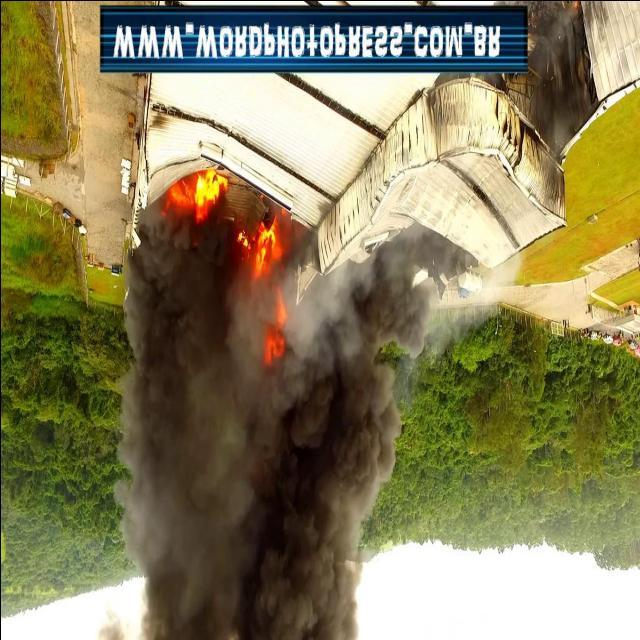Fire: (160, 164, 230, 228), (237, 216, 283, 282), (264, 284, 287, 366)
